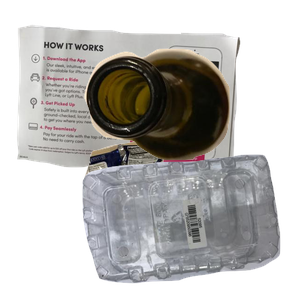glass: (82, 46, 300, 199)
paper: (14, 22, 247, 191)
plastic: (80, 152, 300, 300)
trash: (81, 137, 280, 300)
